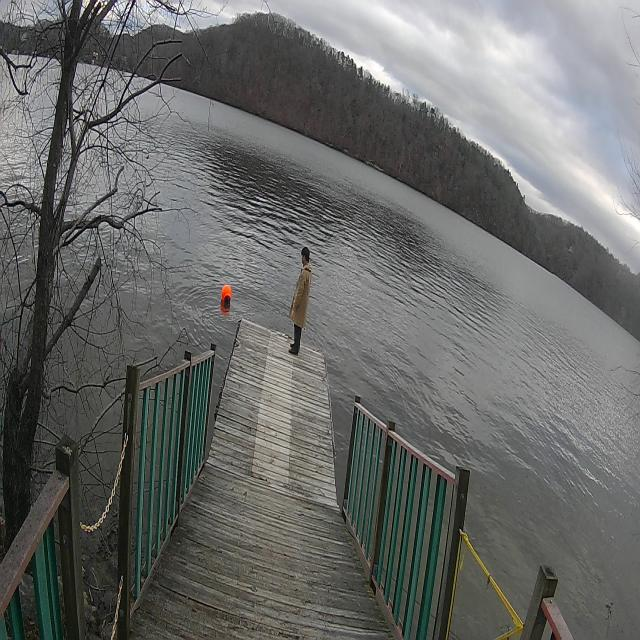Buoy: (220, 275, 234, 313)
